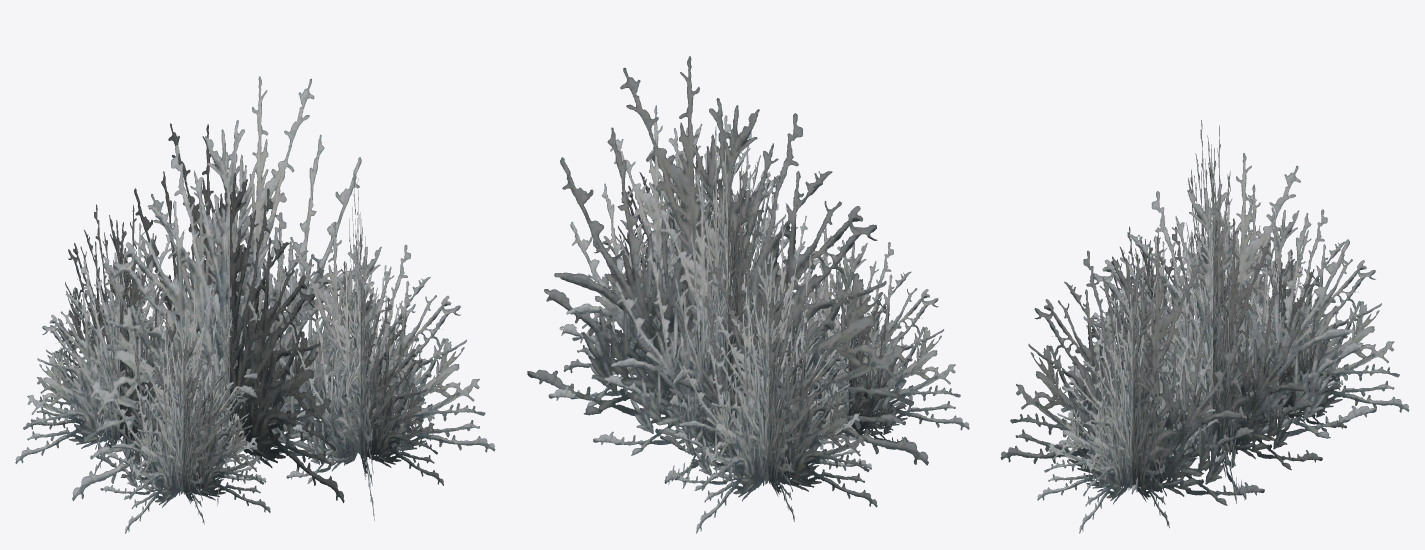
Rendered from environment_Tree_kucao_001_a.FBX.
3 renders of one model, left to right at view 1: azimuth 30°, elevation 25°; view 2: azimuth 150°, elevation 25°; view 3: azimuth 270°, elevation 25°, orthographic. The views are drawn at different scales.
Visible parts, largest first — view 1: environment_Tree_kucao_001_a; view 2: environment_Tree_kucao_001_a; view 3: environment_Tree_kucao_001_a.
Part boxes in pixels (x1,y1,x2,y2): environment_Tree_kucao_001_a: (15,76,495,533); environment_Tree_kucao_001_a: (527,56,969,533); environment_Tree_kucao_001_a: (1000,120,1409,533).
Bounding box in the file's own units: 652 × 626 × 663.
1 material, 1 textured.
